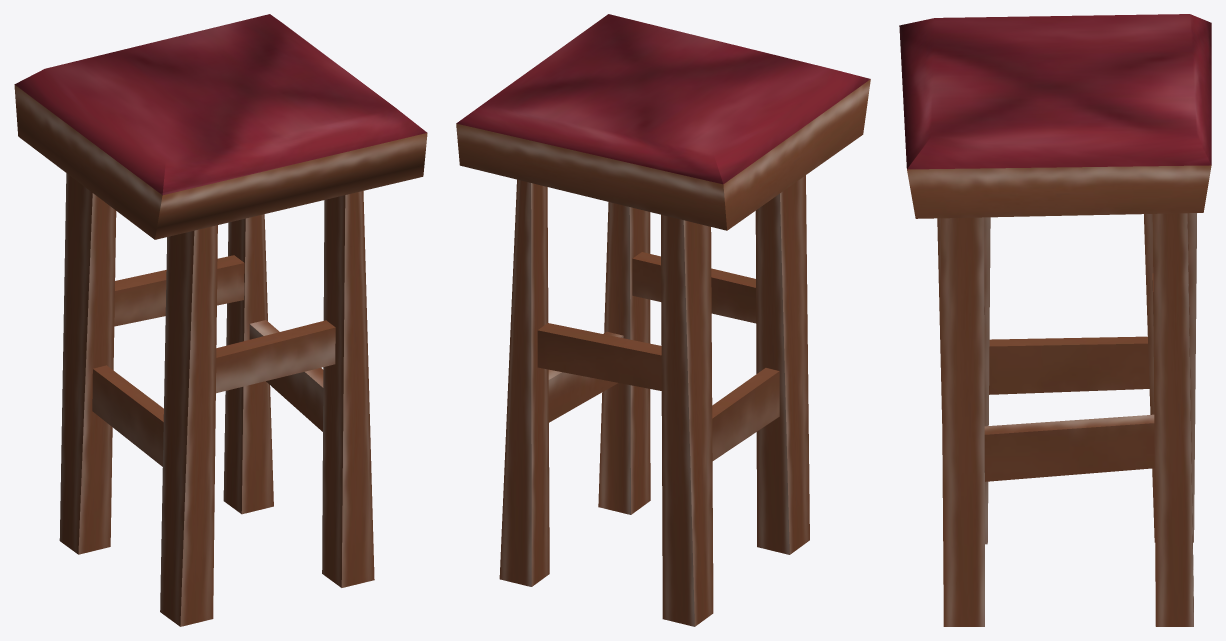
Rendered from stool_fancy.fbx.
3 renders of one model, left to right at view 1: azimuth 30°, elevation 25°; view 2: azimuth 150°, elevation 25°; view 3: azimuth 270°, elevation 25°, orthographic. The views are drawn at different scales.
Parts seen in each view (by area): view 1: lod_high; view 2: lod_high; view 3: lod_high.
Part boxes in pixels (left/top/right/bottom): lod_high: left=14, top=14, right=427, bottom=626; lod_high: left=456, top=14, right=870, bottom=626; lod_high: left=899, top=14, right=1211, bottom=626.
Bounding box in the file's own units: 131 × 223 × 126.
1 material, 1 textured.
